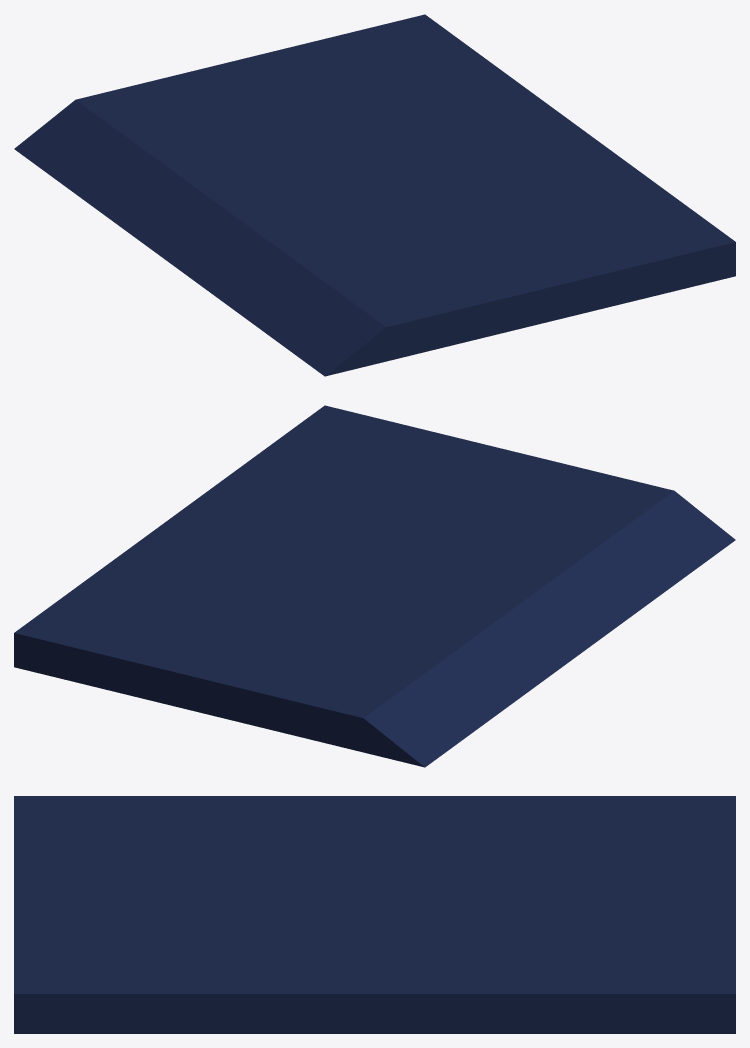
The picture shows the model from 3 angles, top to bottom: view 1: azimuth 30°, elevation 25°; view 2: azimuth 150°, elevation 25°; view 3: azimuth 270°, elevation 25°; orthographic projection. The views are drawn at different scales.
Visible parts, largest first — view 1: geometry_21; view 2: geometry_21; view 3: geometry_21.
Boxes of the visible parts, x1,y1,x2,y2 form: geometry_21: (14,14,735,376); geometry_21: (14,405,735,767); geometry_21: (14,796,735,1033).
Bounding box in the file's own units: 0.0305 × 0.00244 × 0.04.
